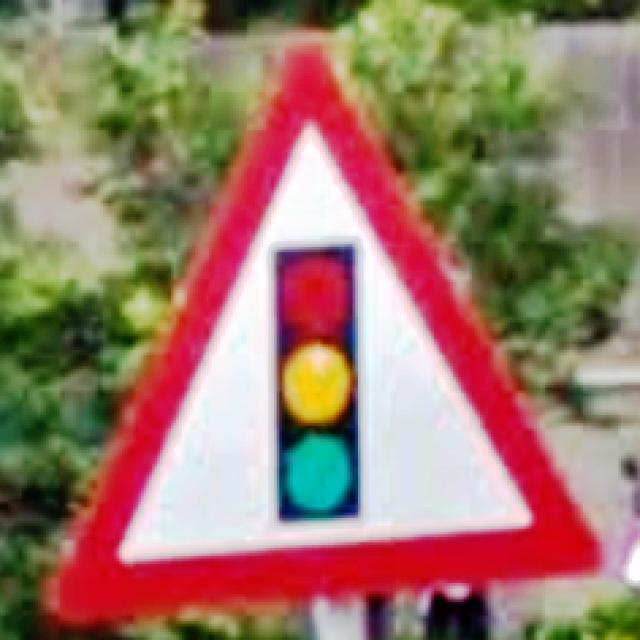signalahead: (51, 46, 605, 623)
